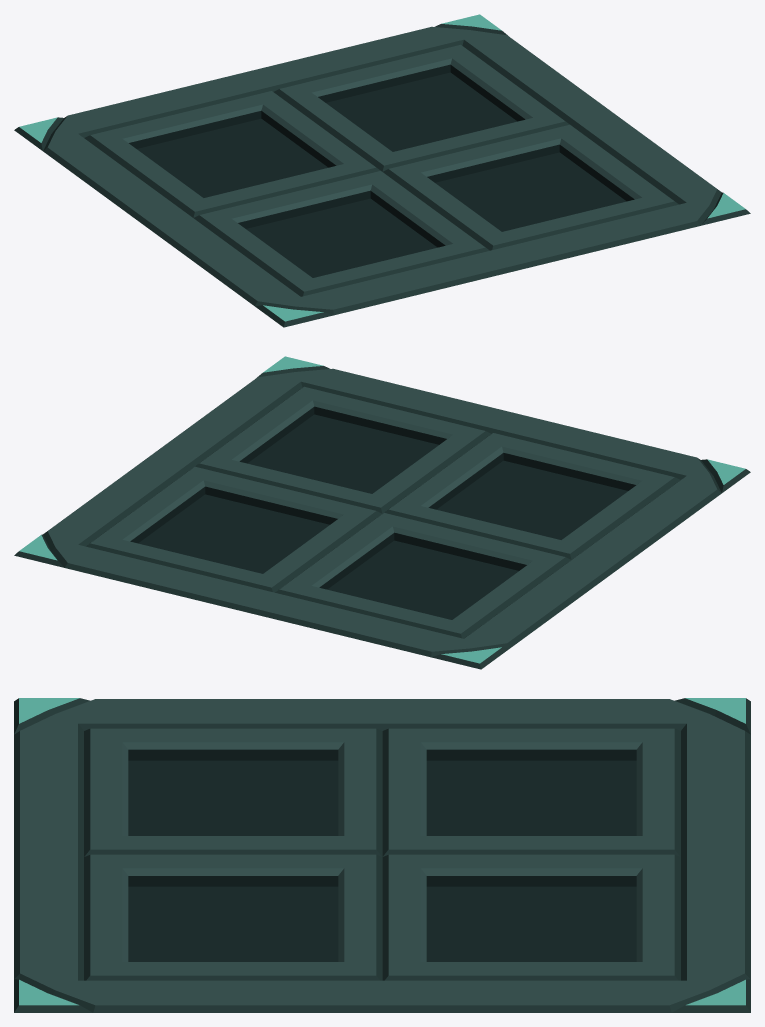
The model's file is Ground_Var07.fbx.
3 views of the same model, one above another, from view 1: azimuth 30°, elevation 25°; view 2: azimuth 150°, elevation 25°; view 3: azimuth 270°, elevation 25° (orthographic). The views are drawn at different scales.
Parts seen in each view (by area): view 1: Ground_Var07; view 2: Ground_Var07; view 3: Ground_Var07.
Part boxes in pixels (bbox=[...]): Ground_Var07: bbox=[14, 14, 750, 327]; Ground_Var07: bbox=[14, 356, 750, 669]; Ground_Var07: bbox=[14, 698, 750, 1012].
Bounding box in the file's own units: 600 × 14.47 × 600.
